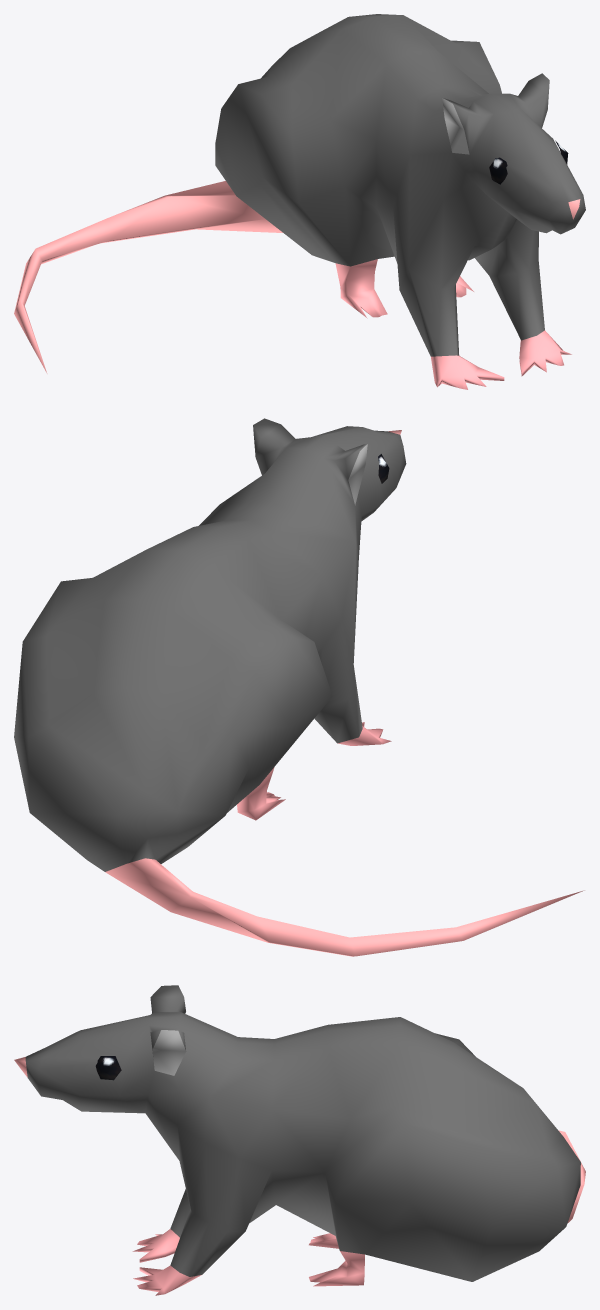
The model's file is Rat.glb.
3 renders of one model, top to bottom at view 1: azimuth 30°, elevation 25°; view 2: azimuth 150°, elevation 25°; view 3: azimuth 270°, elevation 25°, orthographic. The views are drawn at different scales.
Visible parts, largest first — view 1: Rat; view 2: Rat; view 3: Rat.
Part boxes in pixels (x1,y1,x2,y2): Rat: (14,14,585,389); Rat: (14,418,584,956); Rat: (14,985,585,1295).
Size of what is drawn, in the model's own units: 0.4245 by 0.243 by 0.4865.
Materials: 1 (1 with a texture image).
